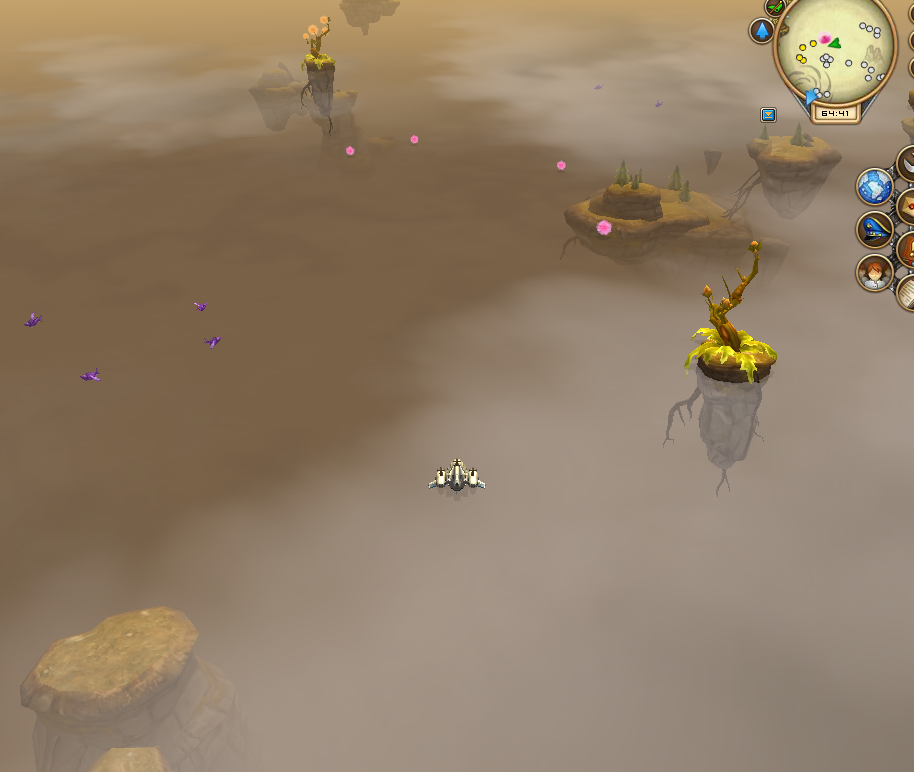dandelion-empty: (678, 231, 785, 414)
dandelion-full: (294, 6, 342, 88)
fluff: (337, 138, 362, 164), (591, 213, 612, 242), (403, 125, 422, 152), (549, 154, 571, 177)
